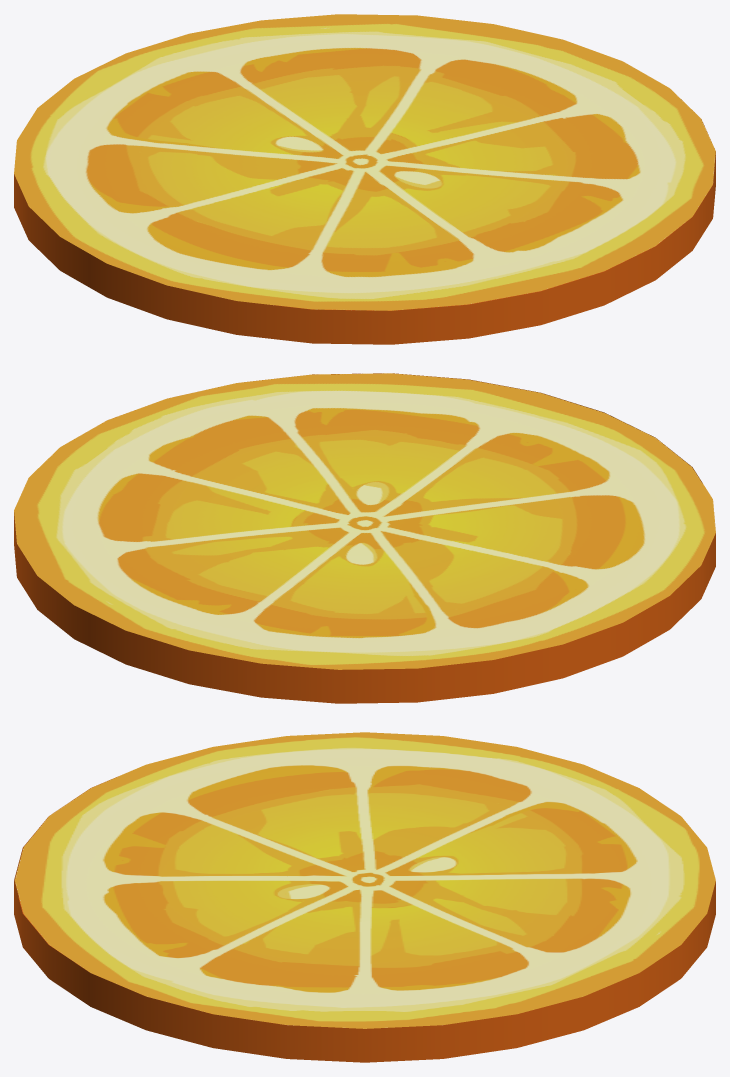
Rendered from cupground.fbx.
3 views of the same model, one above another, from view 1: azimuth 30°, elevation 25°; view 2: azimuth 150°, elevation 25°; view 3: azimuth 270°, elevation 25° (orthographic).
Parts seen in each view (by area): view 1: Cylinder002; view 2: Cylinder002; view 3: Cylinder002.
Boxes of the visible parts, box(x1,y1,x2,y2) form: Cylinder002: box(14, 14, 715, 344); Cylinder002: box(14, 373, 715, 703); Cylinder002: box(14, 732, 715, 1062).
Bounding box in the file's own units: 273 × 14.48 × 273.
